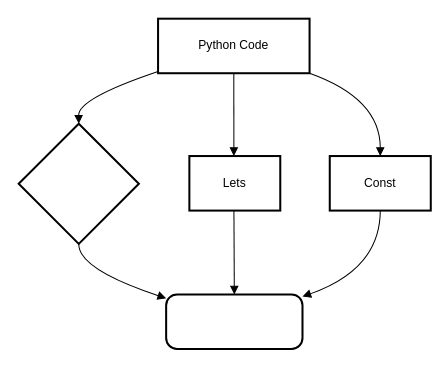
This 448x367 diagram has some shape labels left out. Here are the shapes that lost their labels. From the top down, the box of each, then its label:
(17, 122, 139, 244): Variables
(165, 293, 303, 349): Index into .csv
